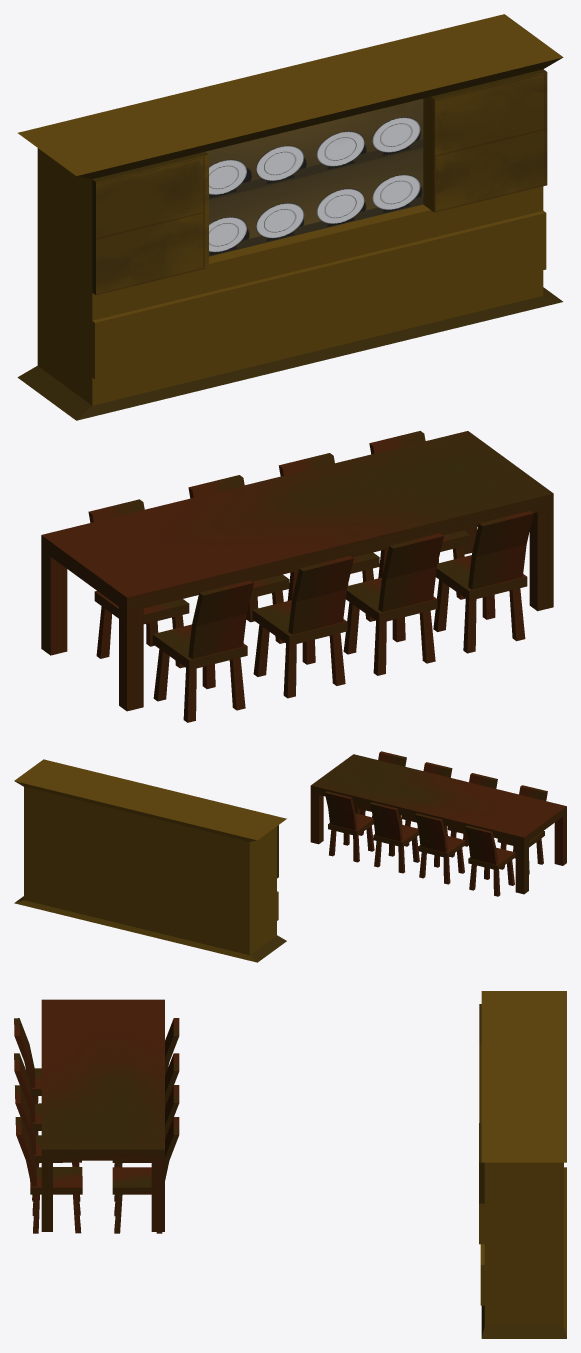
Rendered from Dinning room furniture (2).fbx.
3 renders of one model, top to bottom at view 1: azimuth 30°, elevation 25°; view 2: azimuth 150°, elevation 25°; view 3: azimuth 270°, elevation 25°, orthographic. The views are drawn at different scales.
Parts seen in each view (by area): view 1: Cabinet, Table, Cube.059, Cube.057, Cube.058, Cube.056, Cube.060, Cube.055, Cube.048, Cube.054; view 2: Cabinet, Table, Cube.055, Cube.060, Cube.048, Cube.054, Cube.059, Cube.057, Cube.058, Cube.056; view 3: Cabinet, Table, Cube.056, Cube.054, Cube.058, Cube.059, Cube.057, Cube.048, Cube.060, Cube.055.
Part boxes in pixels (x1,y1,x2,y2): Cabinet: (17,14,563,420); Table: (41,431,553,711); Cube.059: (152,580,253,722); Cube.057: (252,556,353,698); Cube.058: (343,533,443,675); Cube.056: (433,511,533,653); Cube.060: (88,499,189,668); Cube.055: (188,475,289,643); Cube.048: (278,453,379,621); Cube.054: (369,431,470,599); Cabinet: (14,759,286,962); Table: (310,754,566,894); Cube.055: (415,813,465,884); Cube.060: (465,825,515,896); Cube.048: (370,802,419,873); Cube.054: (325,791,374,862); Cube.059: (497,785,547,874); Cube.057: (447,773,497,857); Cube.058: (402,762,452,846); Cube.056: (356,751,406,835); Cabinet: (479,991,566,1338); Table: (41,999,164,1231); Cube.056: (15,1117,82,1233); Cube.054: (112,1117,179,1233); Cube.058: (14,1085,81,1201); Cube.059: (14,1018,41,1103); Cube.057: (14,1053,79,1166); Cube.048: (112,1085,179,1201); Cube.060: (165,1018,179,1075); Cube.055: (114,1053,179,1167).
Bounding box in the file's own units: 776 × 269 × 694.
